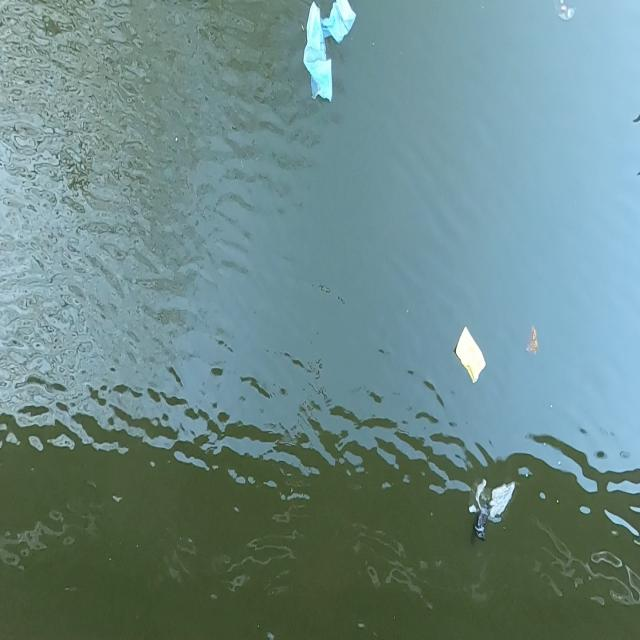Sac plastique: (296, 0, 366, 110), (461, 472, 518, 549), (451, 320, 487, 392)
